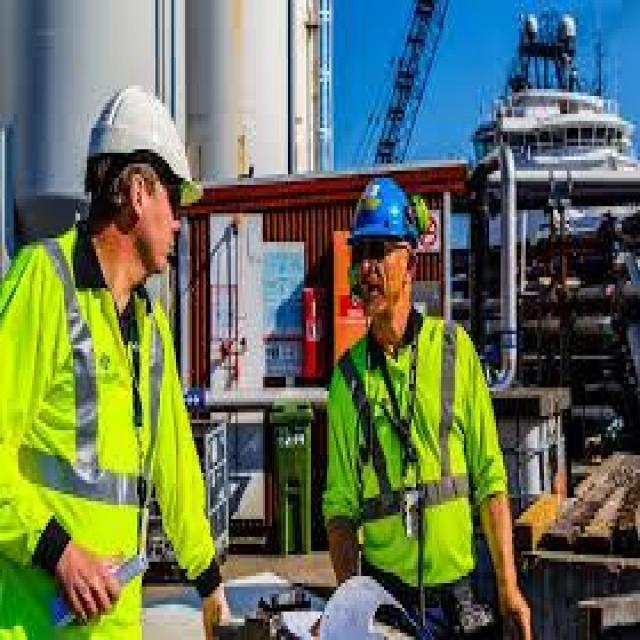reflective_jacket: (0, 235, 208, 633), (329, 316, 507, 600)
safety_helmet: (71, 71, 206, 209), (342, 170, 425, 256)
